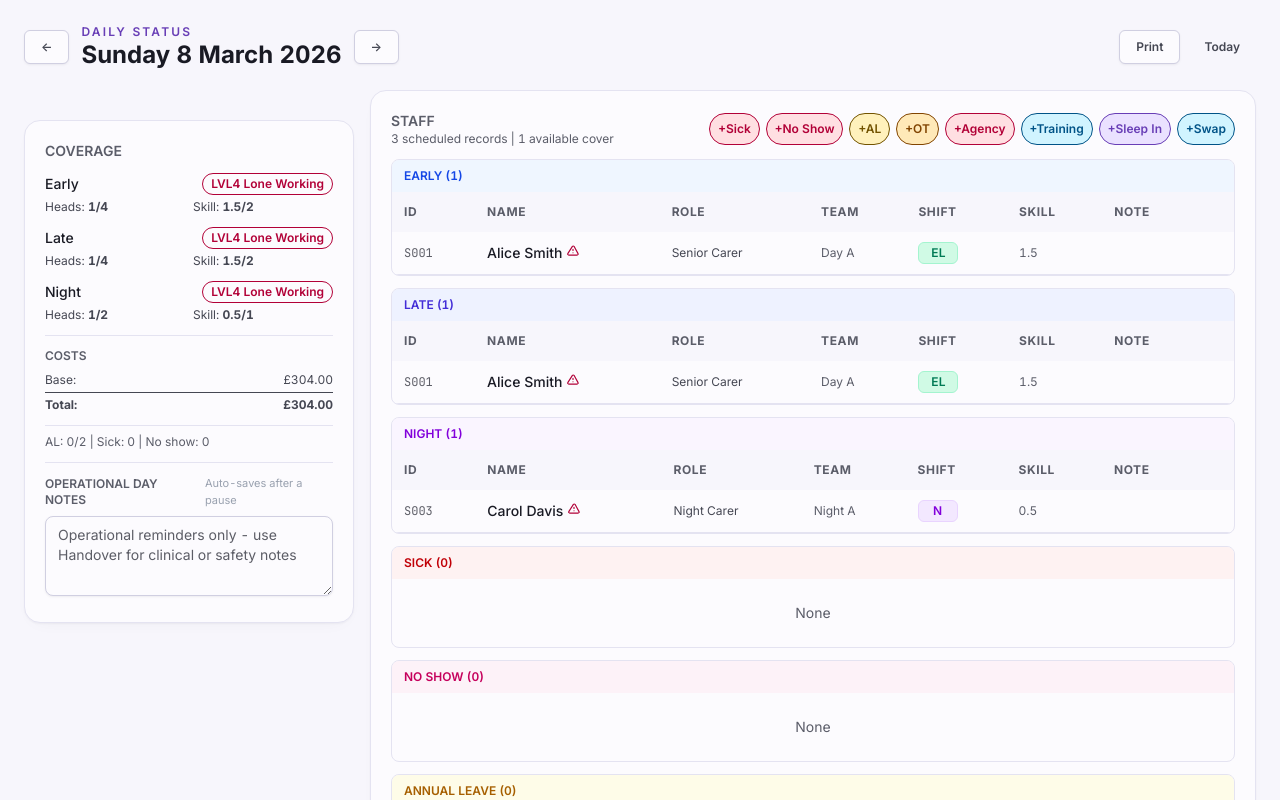
Test case: DailyStatus › shows the RTW handoff notice after marking someone sick
The image size is (1280, 800).
Click the button "+Sick": [734, 129] box [709, 113, 760, 145]
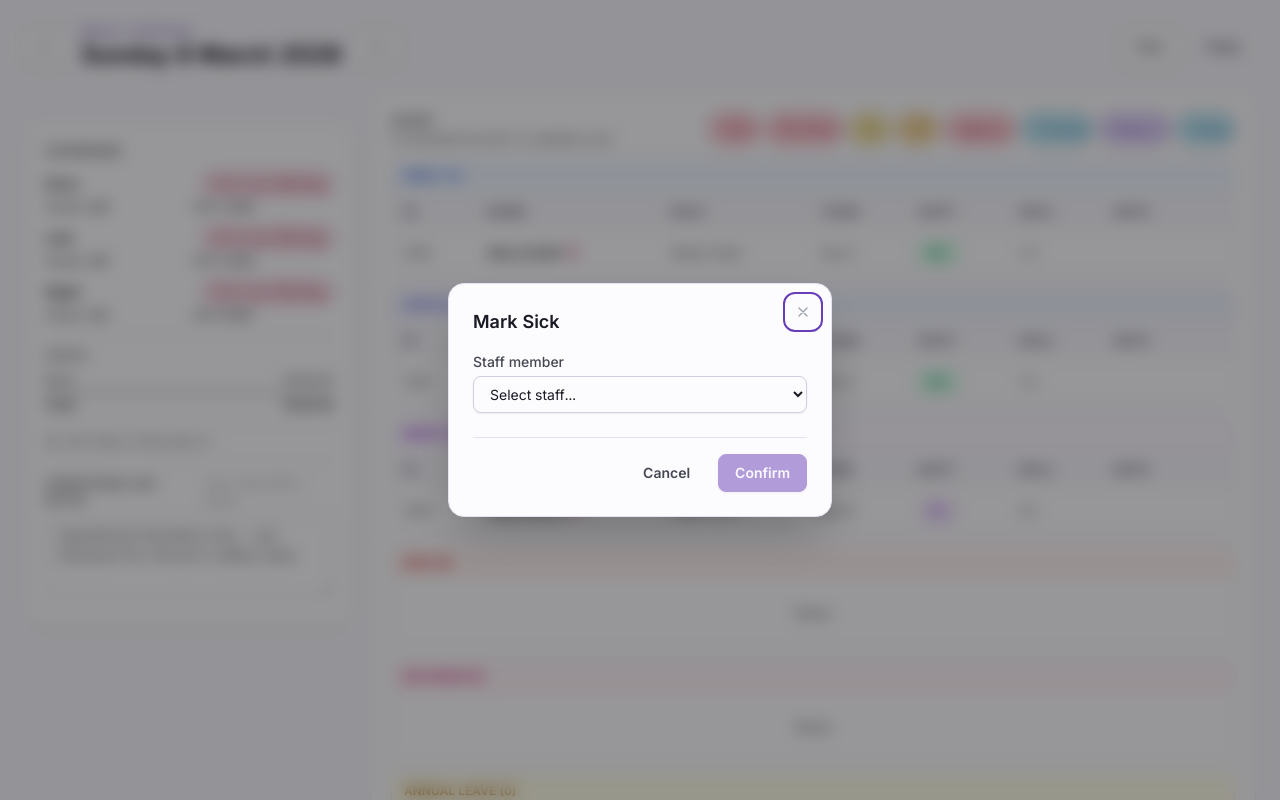
Select "Alice Smith (EL)" in the dropdown: [640, 394] box [473, 376, 807, 413]
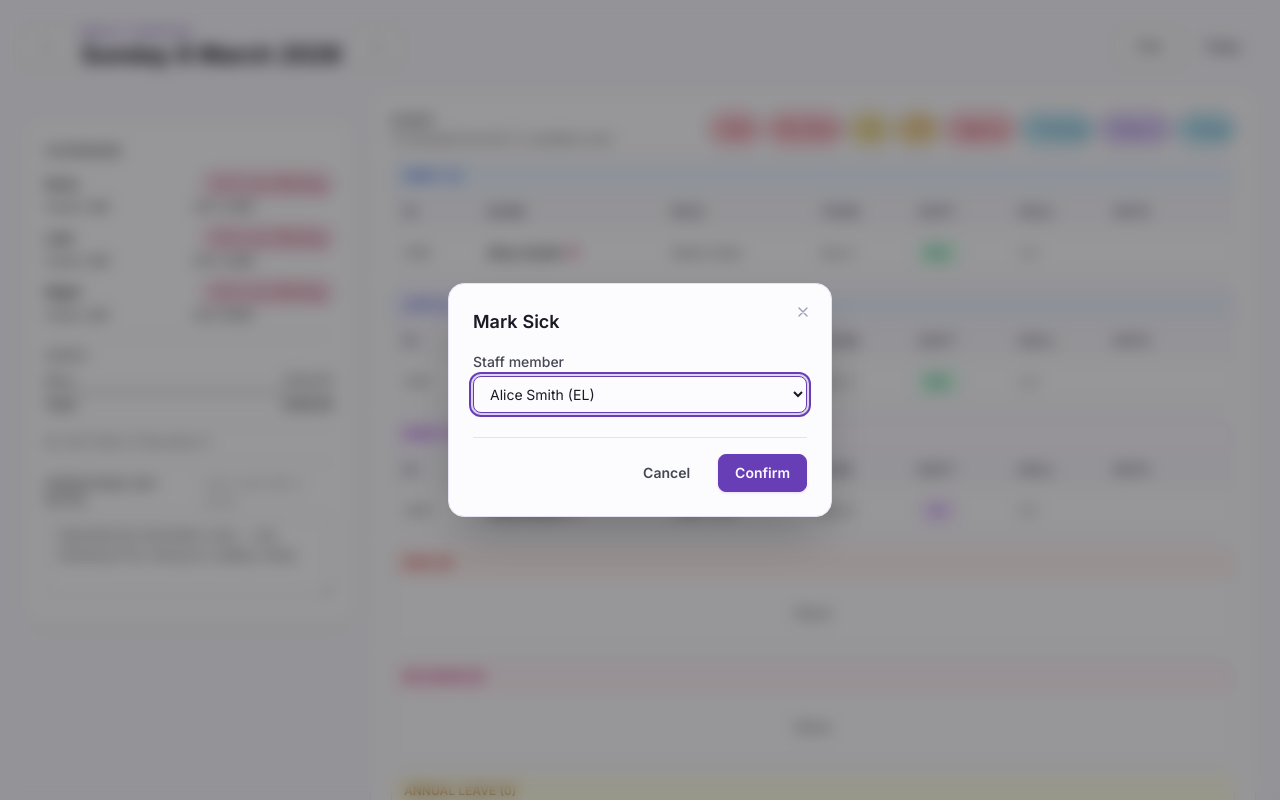
Click the button "Confirm": [763, 473] box [718, 454, 807, 492]
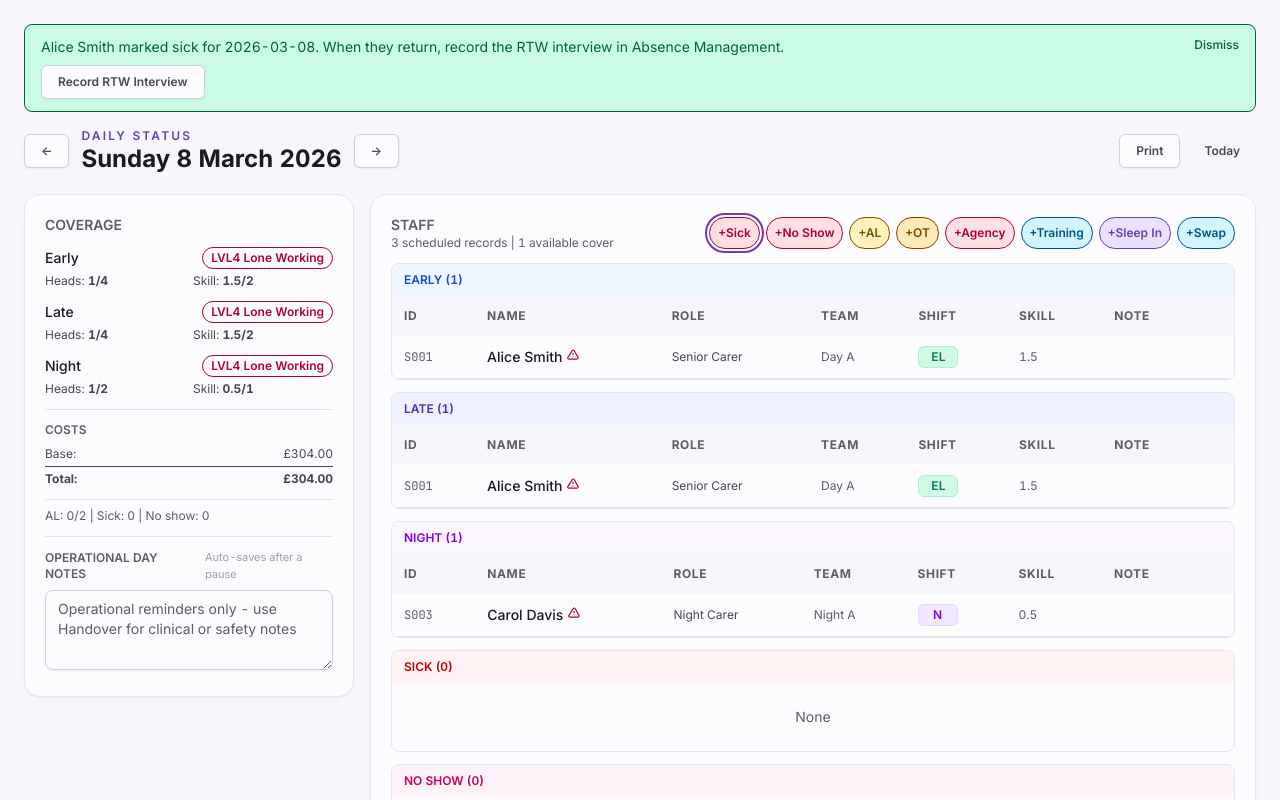
Result: the button "Record RTW Interview" is shown at [41, 65, 204, 99]
Result: the text "Alice Smith marked sick for 2026-03-08" is shown at [41, 37, 784, 57]
